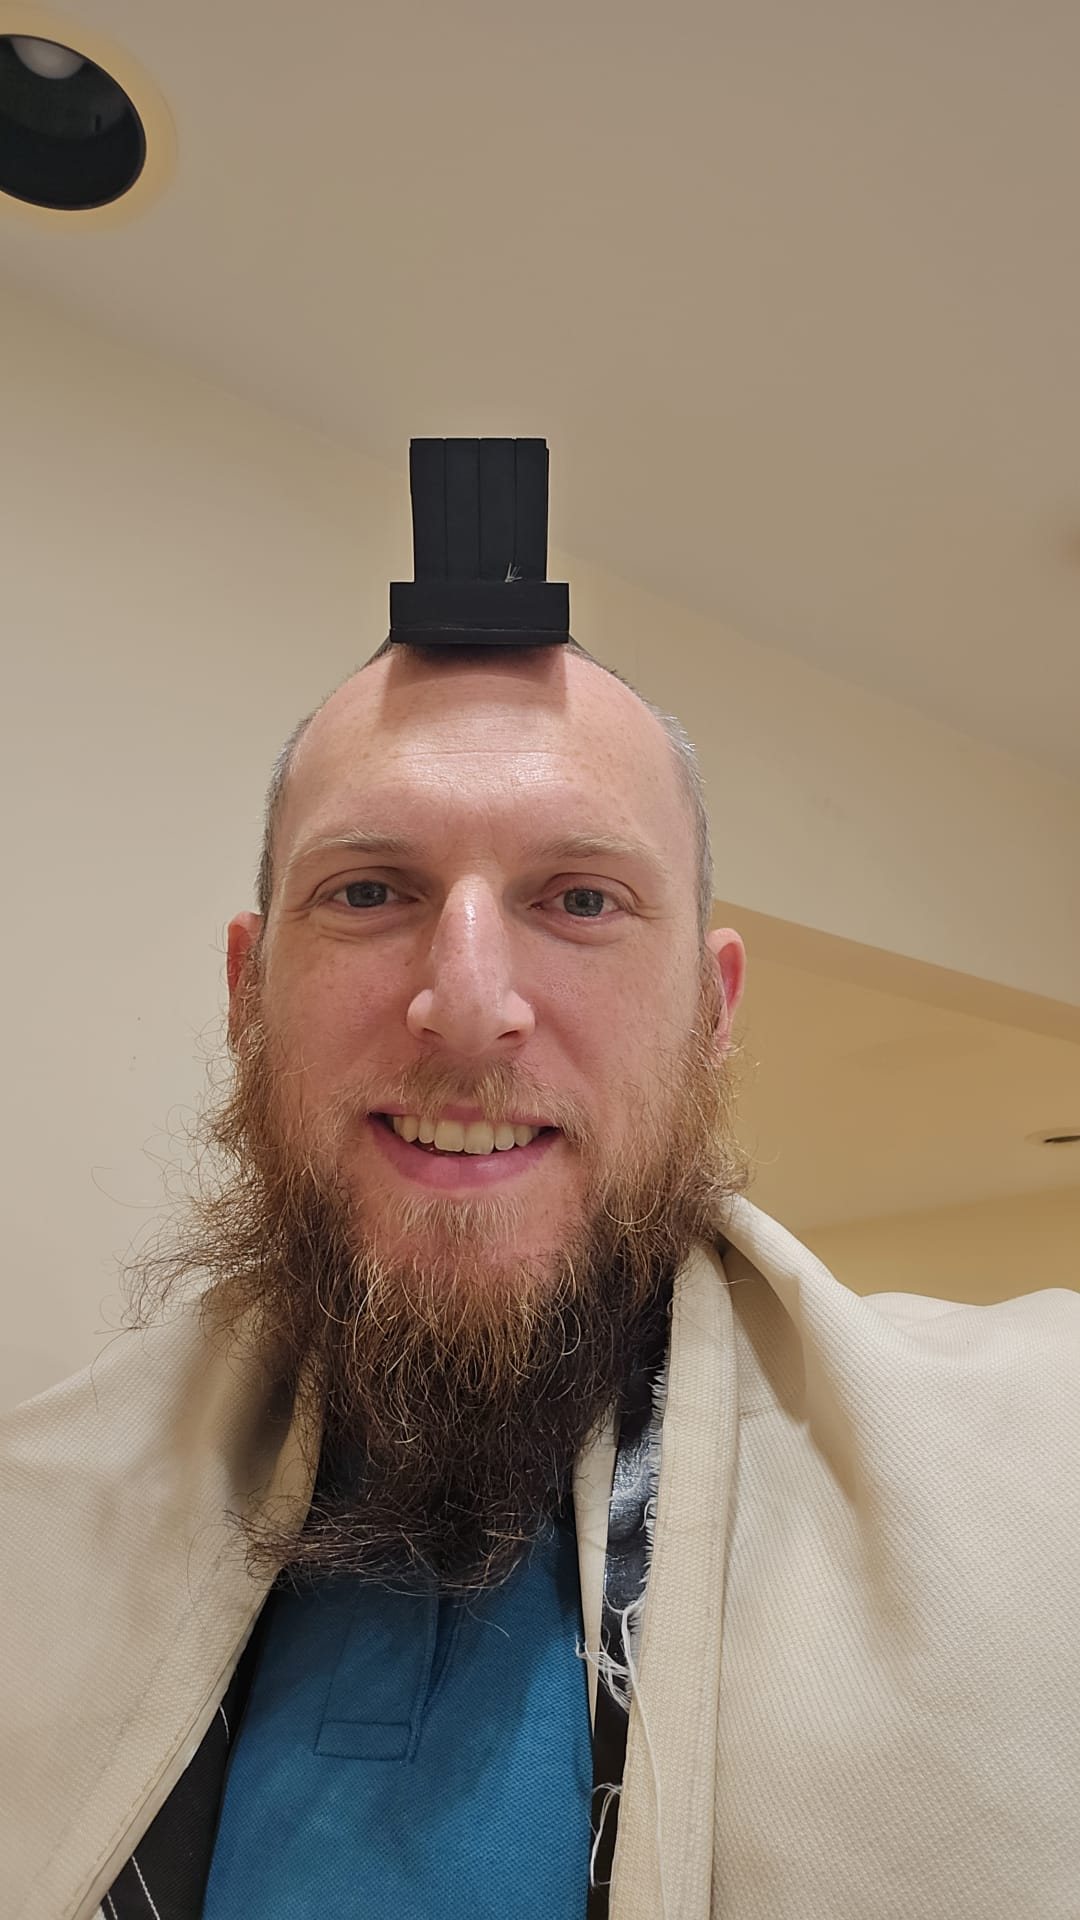tefillin: (386, 434, 572, 646)
